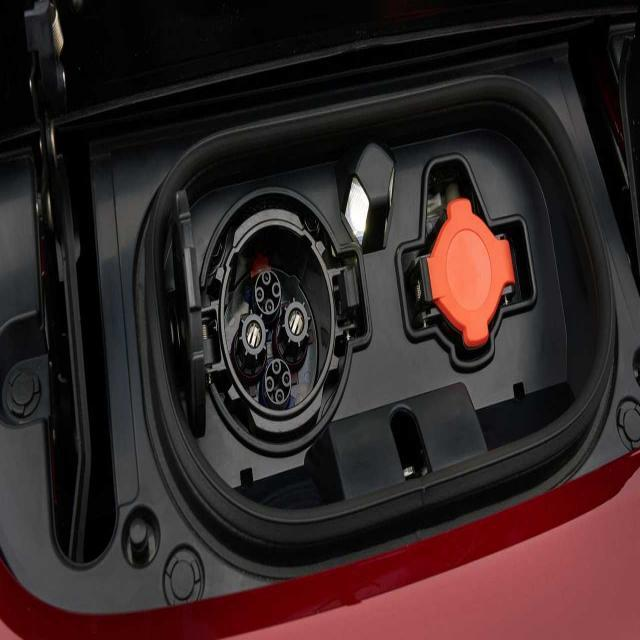CHAdeMO: (190, 235, 371, 418)
